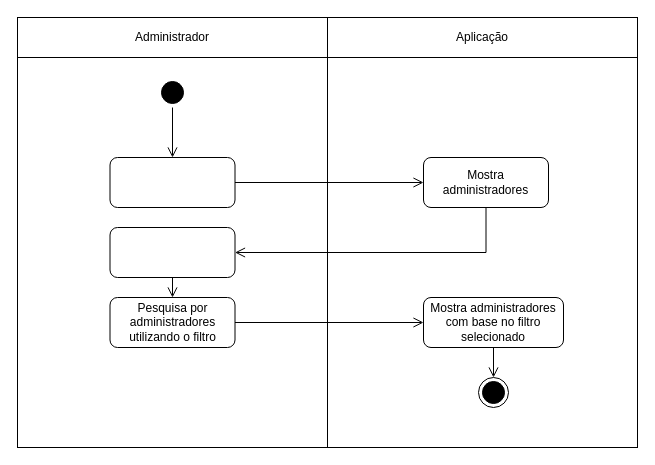
Image size: 655x465. Some labels were removed from this diagram. The shapes that lost their labels are listed below. From the top down, each one's centre as x and y in pixels, then its label:
point (172, 182): Entra na tela de ver administradores
point (172, 252): Escolhe filtros
